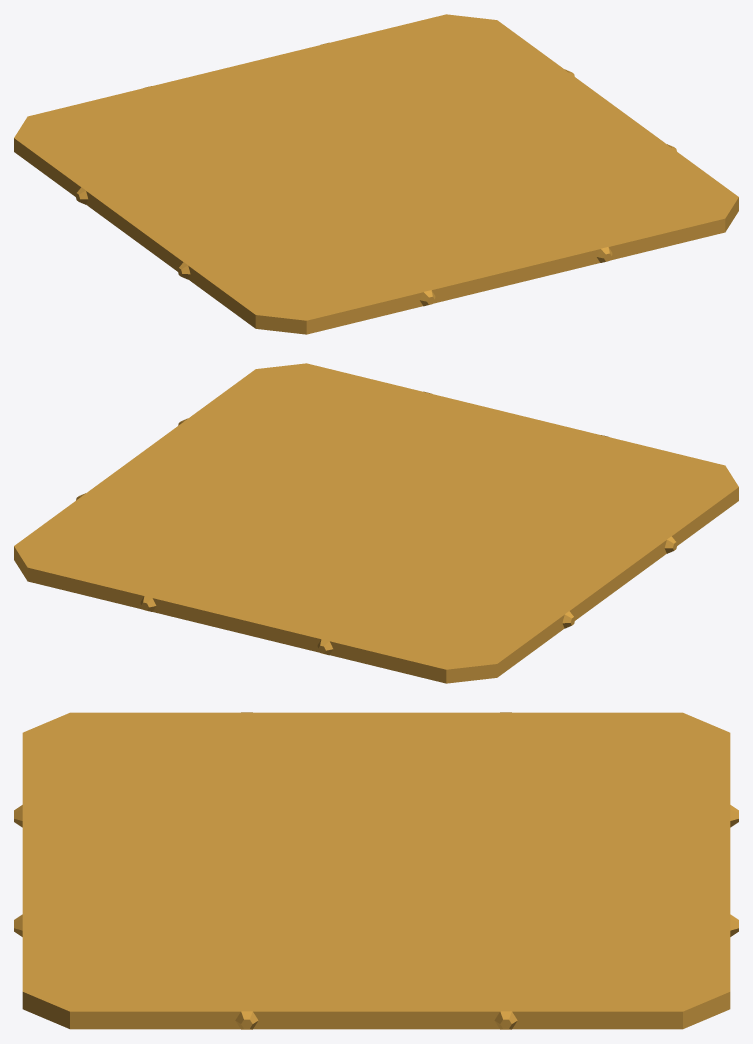
File: MortarKit3.obj
The picture shows the model from 3 angles, top to bottom: view 1: azimuth 30°, elevation 25°; view 2: azimuth 150°, elevation 25°; view 3: azimuth 270°, elevation 25°; orthographic projection. The views are drawn at different scales.
Parts seen in each view (by area): view 1: MortarKit3; view 2: MortarKit3; view 3: MortarKit3.
Boxes of the visible parts, x1,y1,x2,y2 form: MortarKit3: (14,14,738,334); MortarKit3: (14,363,738,683); MortarKit3: (14,712,738,1029).
Bounding box in the file's own units: 1.12 × 0.0312 × 1.12.
